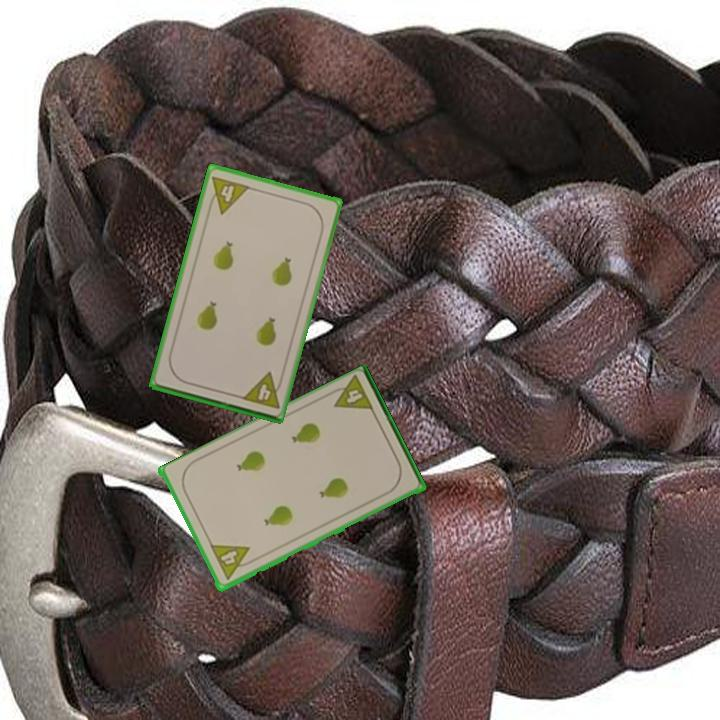4p: (324, 373, 377, 415), (204, 172, 253, 217), (207, 541, 257, 583), (238, 369, 286, 412)
